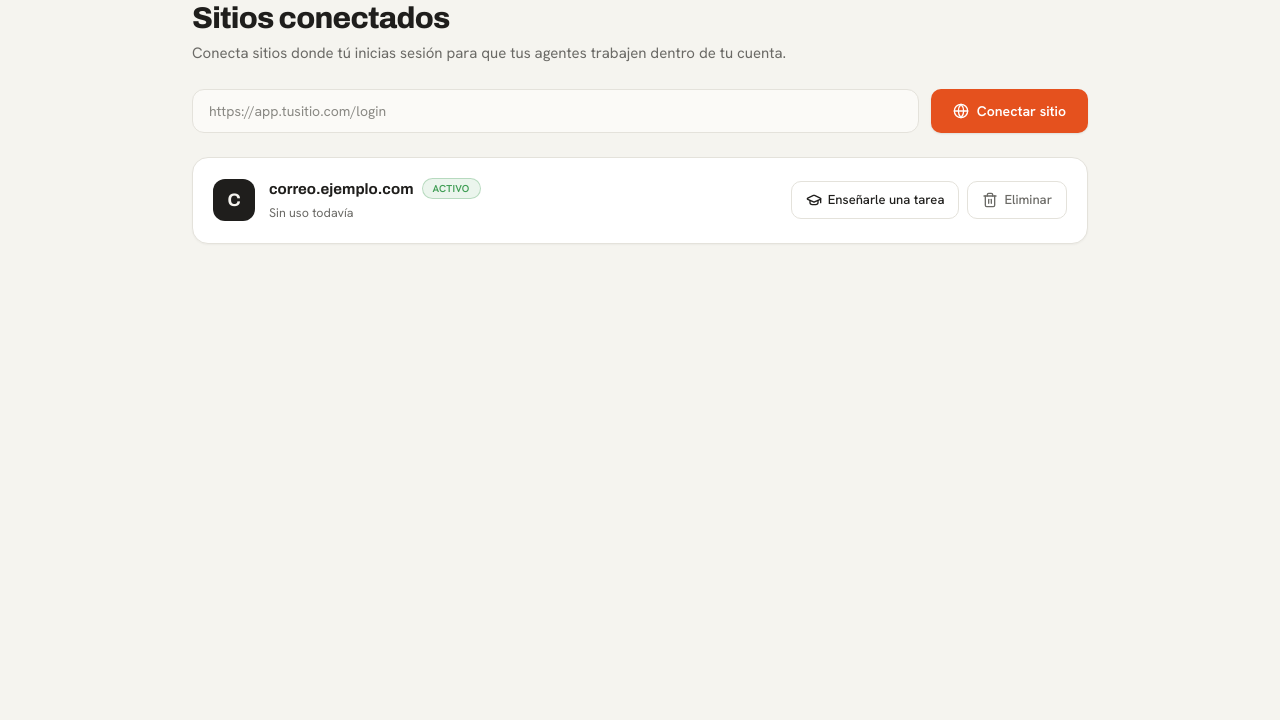
Test: SitiosConectadosPage: ensenarle una tarea › al elegirla se abre el dialogo que pide que le vas a ensenar, sin encolar nada todavia
The width and height of the screenshot is (1280, 720).
Step 1. Click the button "Enseñarle una tarea" → point(875, 200), box [791, 181, 960, 219]
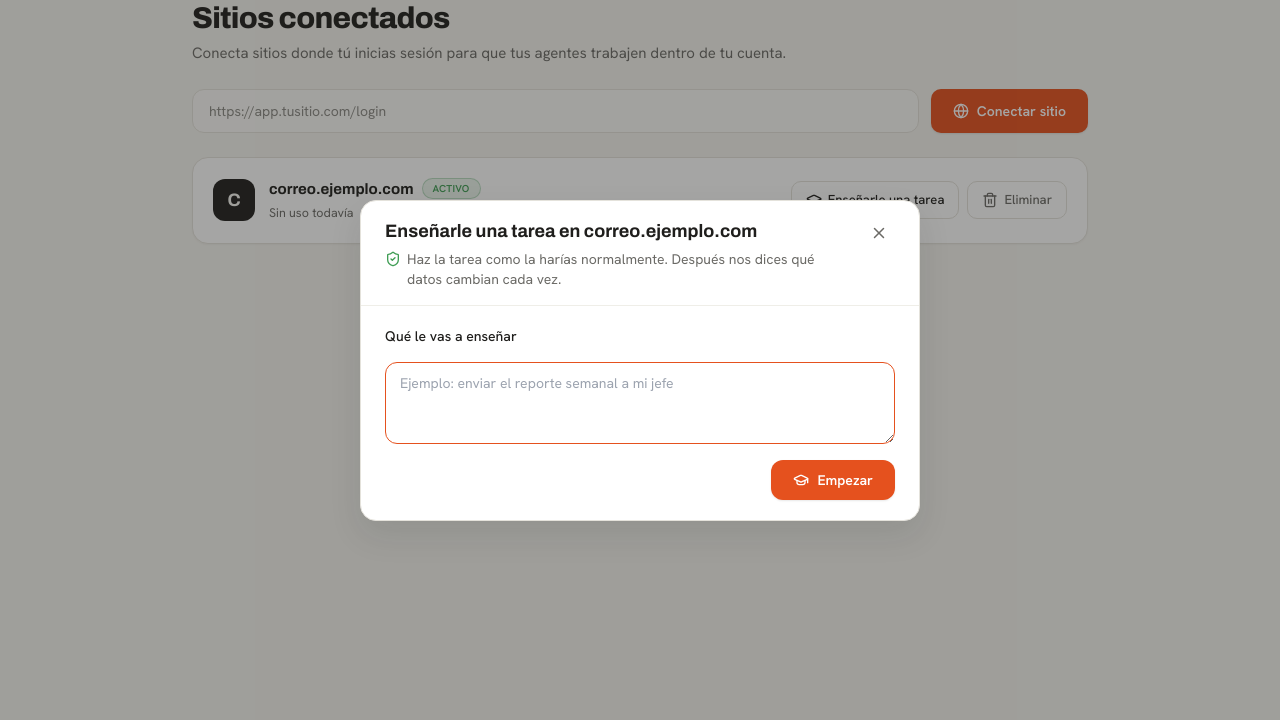
Now the dialog is shown, box [360, 200, 920, 520]
Now the text box labelled "Qué le vas a enseñar" is shown, box [385, 362, 895, 444]
